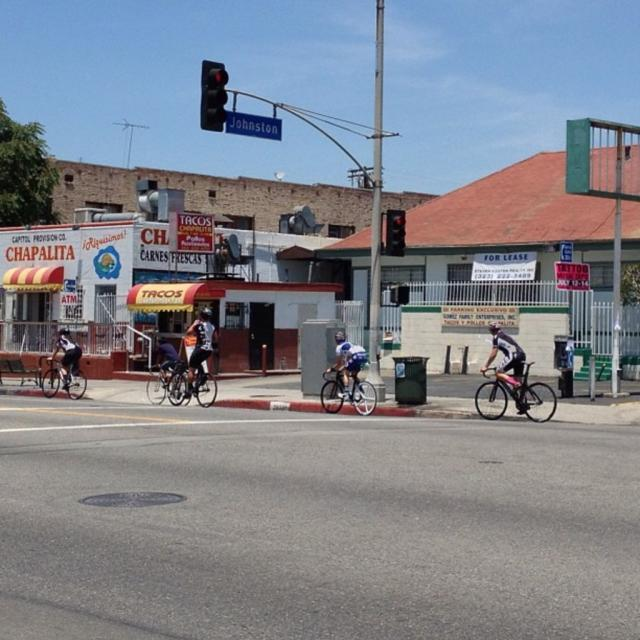traffic light: (201, 59, 227, 129), (388, 210, 406, 255)
